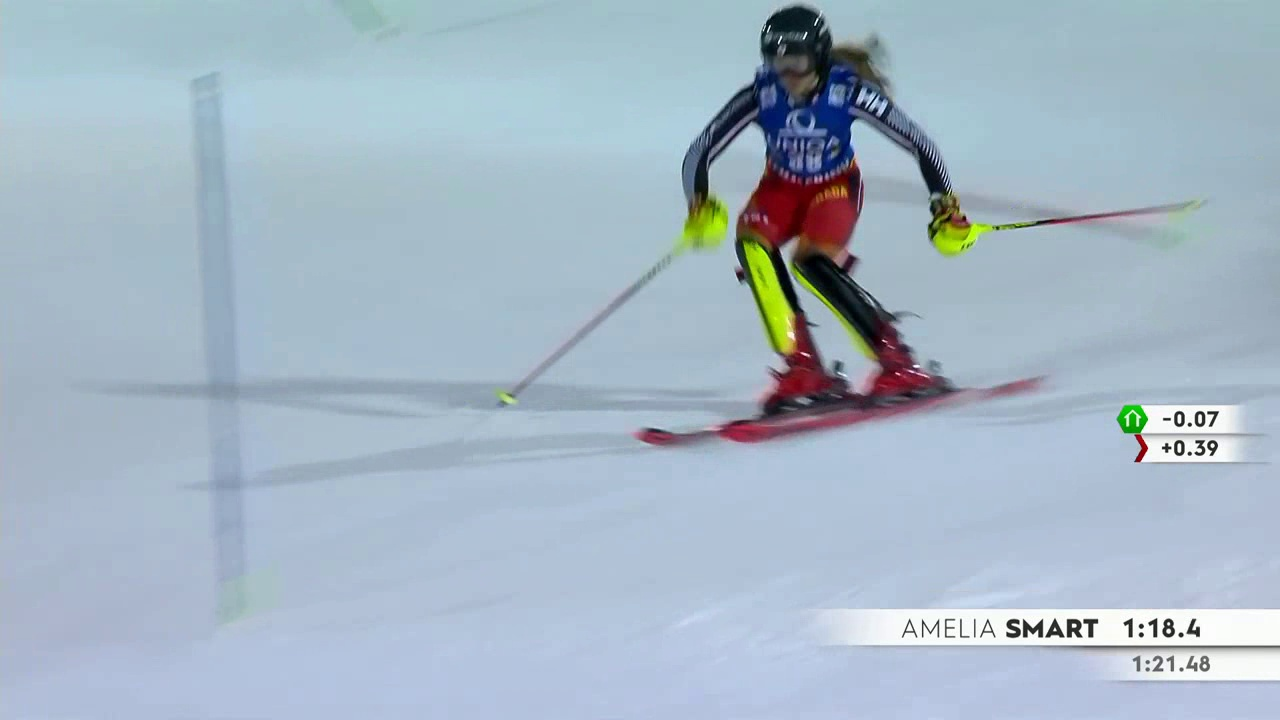uniqa: (774, 113, 829, 152)
